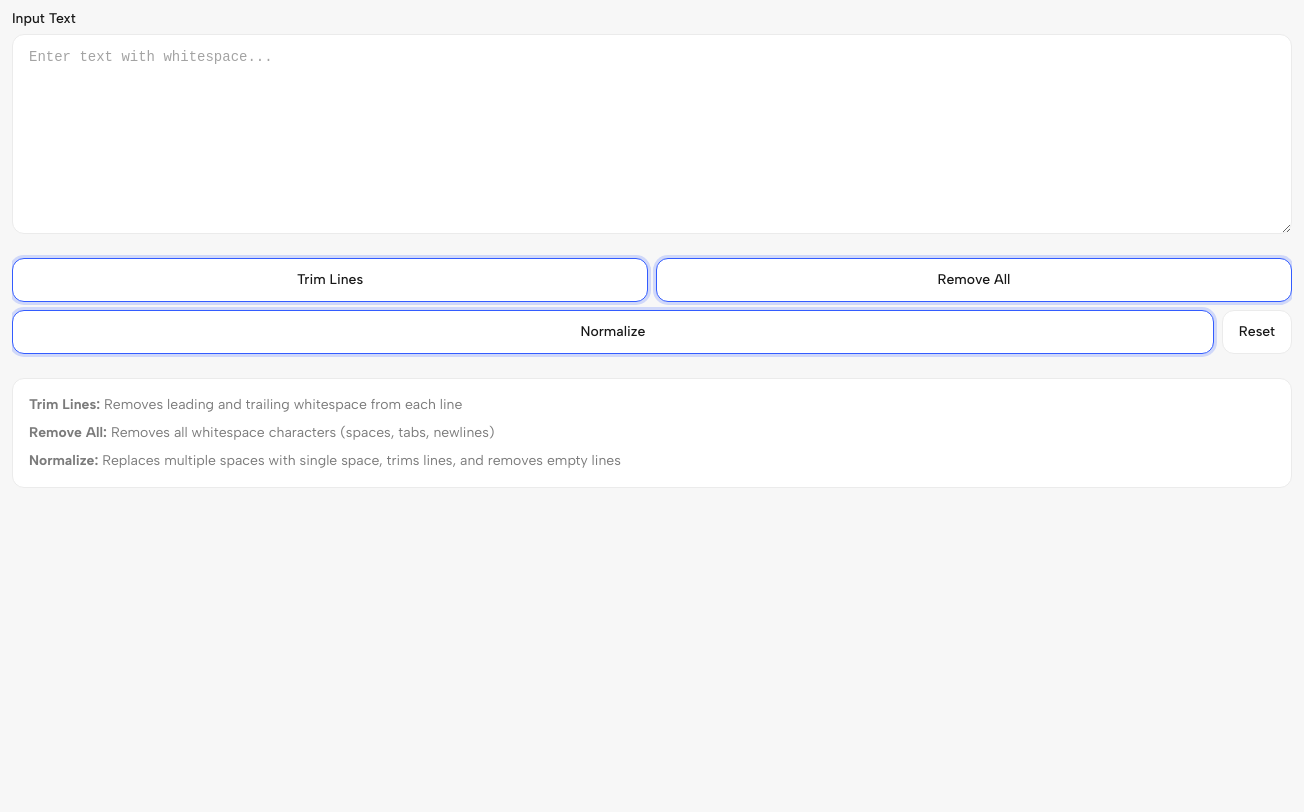
Scenario: WhitespaceRemoverTool › handles multiple spaces in remove all
The width and height of the screenshot is (1304, 812).
In the text box with placeholder "Enter text with whitespace...": (652, 134) [12,34,1292,234], type "a    b    c"
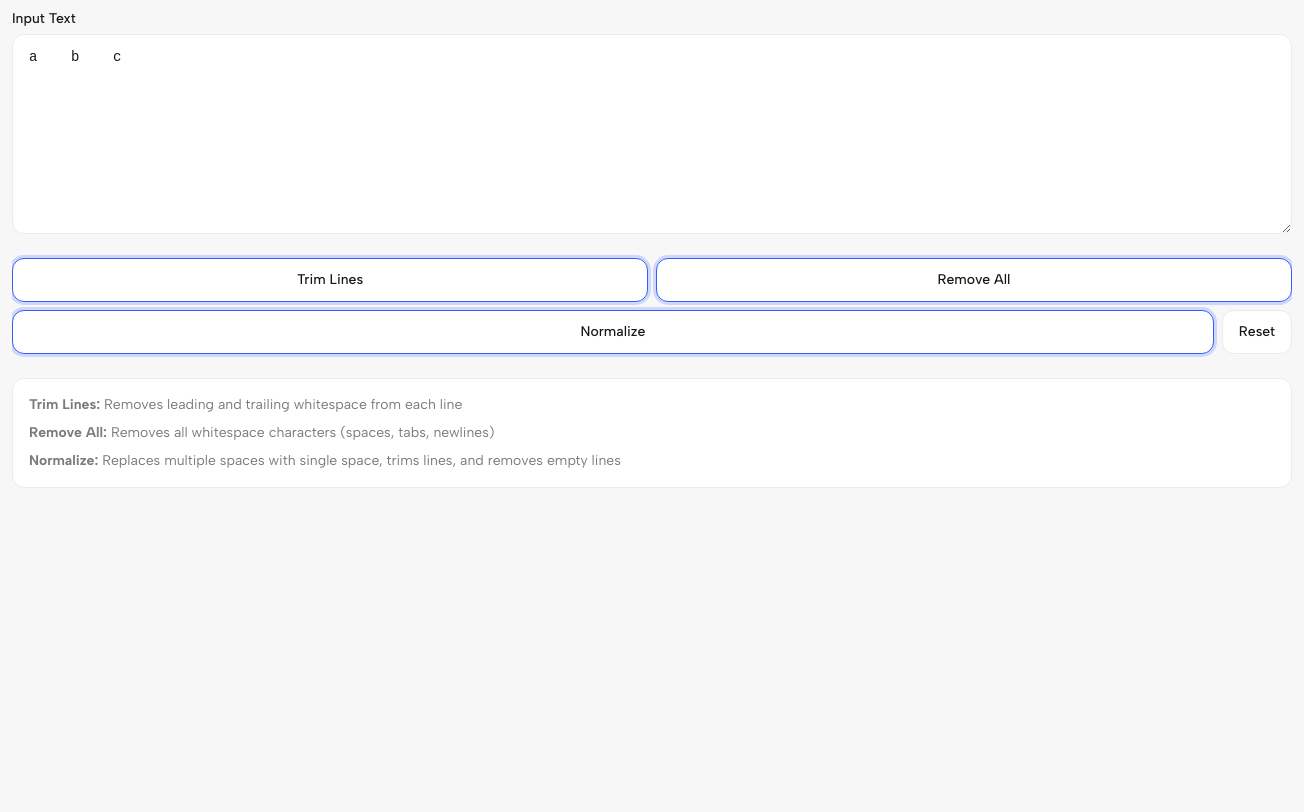
Click the button "Remove All": (974, 280) [656,258,1292,302]
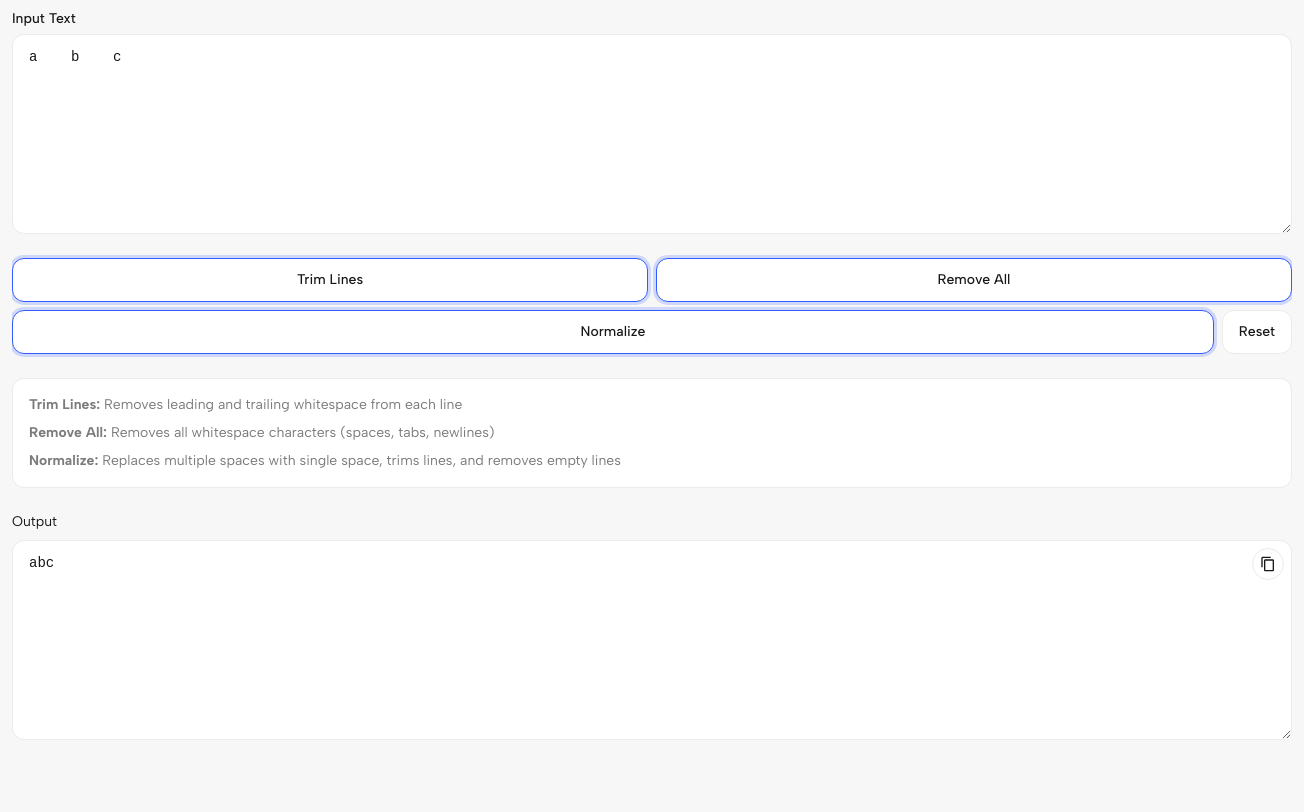
Check: the text box below "Output" holds "abc", box [12,540,1292,740]
